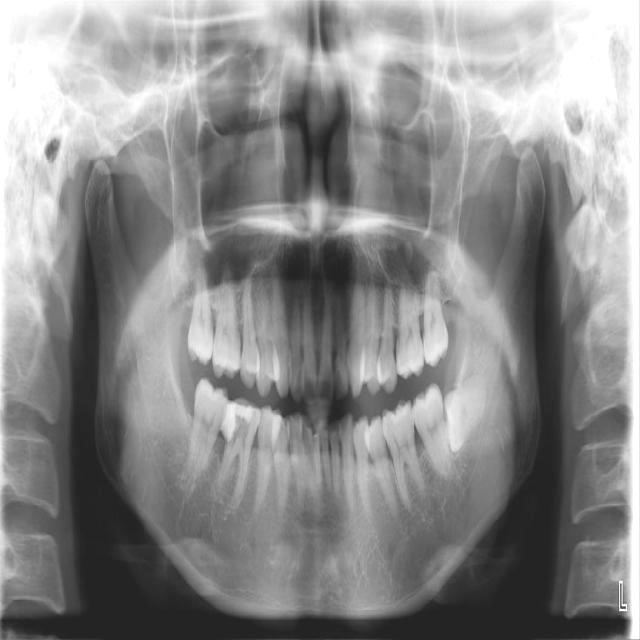Filling: (221, 399, 260, 443)
impacted tooth: (442, 368, 485, 454)
